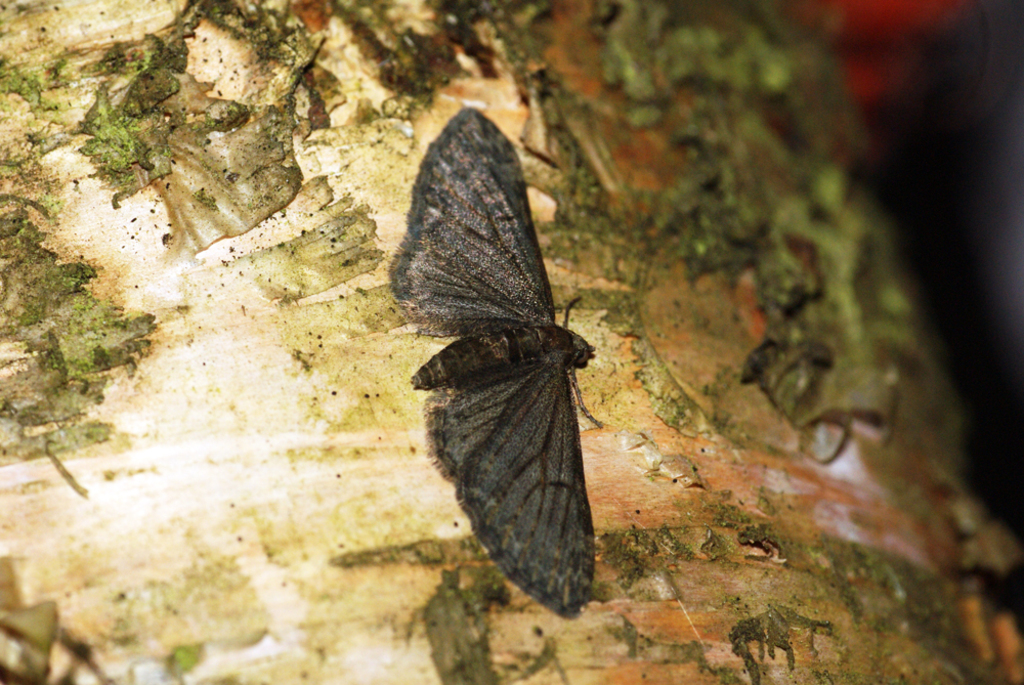Butterfly: (391, 84, 634, 627)
